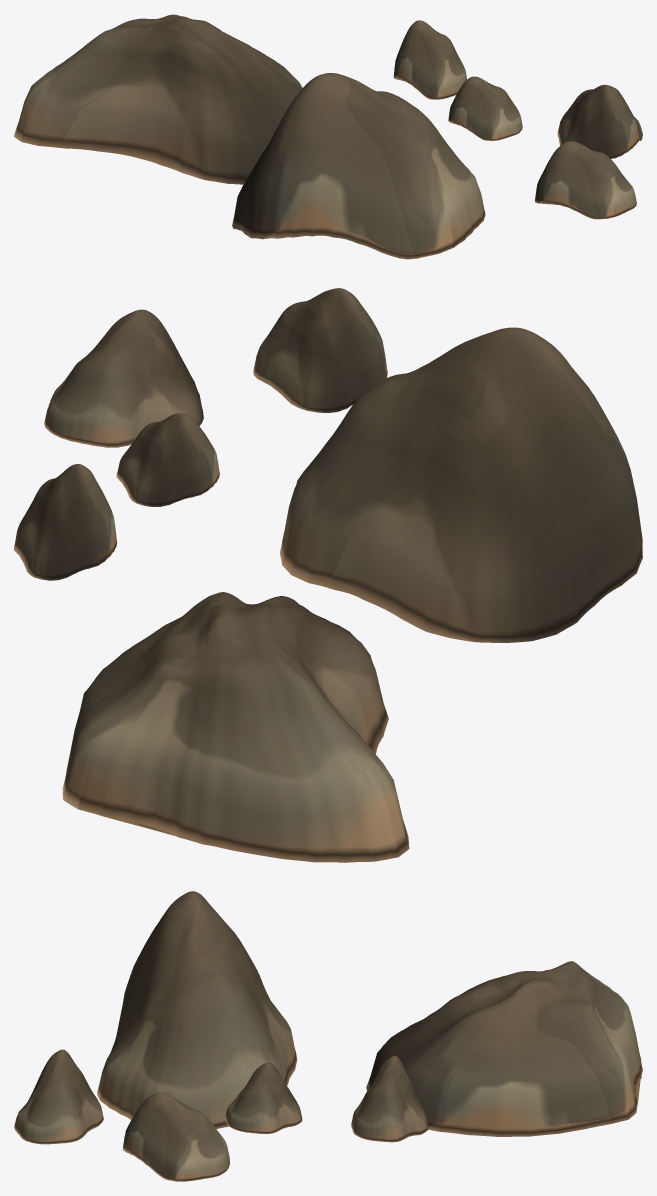
The model's file is Tas9.fbx.
The picture shows the model from 3 angles, top to bottom: view 1: azimuth 30°, elevation 25°; view 2: azimuth 150°, elevation 25°; view 3: azimuth 270°, elevation 25°; orthographic projection. The views are drawn at different scales.
Parts seen in each view (by area): view 1: Cube.034, Cube.035, Cube.052, Cube.053, Cube.055, Cube.054; view 2: Cube.035, Cube.034, Cube.053, Cube.052, Cube.055, Cube.054; view 3: Cube.034, Cube.035, Cube.053, Cube.052, Cube.055, Cube.054.
Boxes of the visible parts, bbox=[...] form: Cube.034: bbox=[14, 14, 302, 184]; Cube.035: bbox=[232, 73, 485, 259]; Cube.052: bbox=[535, 141, 636, 219]; Cube.053: bbox=[557, 84, 642, 158]; Cube.055: bbox=[393, 20, 466, 99]; Cube.054: bbox=[448, 76, 522, 140]; Cube.035: bbox=[280, 327, 642, 642]; Cube.034: bbox=[62, 592, 409, 862]; Cube.053: bbox=[44, 309, 203, 447]; Cube.052: bbox=[253, 288, 387, 412]; Cube.055: bbox=[14, 464, 117, 580]; Cube.054: bbox=[116, 413, 219, 506]; Cube.034: bbox=[366, 961, 642, 1136]; Cube.035: bbox=[97, 891, 297, 1128]; Cube.053: bbox=[123, 1092, 229, 1181]; Cube.052: bbox=[14, 1049, 103, 1144]; Cube.055: bbox=[351, 1055, 428, 1142]; Cube.054: bbox=[225, 1062, 302, 1134].
Size of the model in its own units: 803 by 319 by 996.
1 material, 1 textured.
